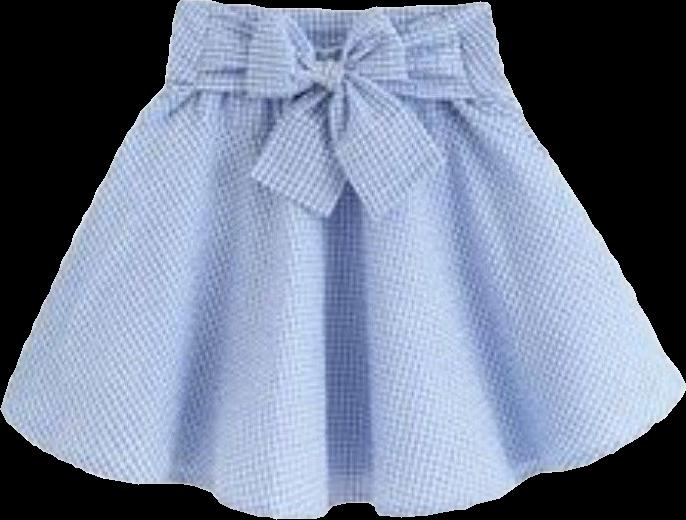Hemline: (0, 383, 685, 519)
Waistline: (177, 2, 488, 64), (159, 81, 509, 104)
